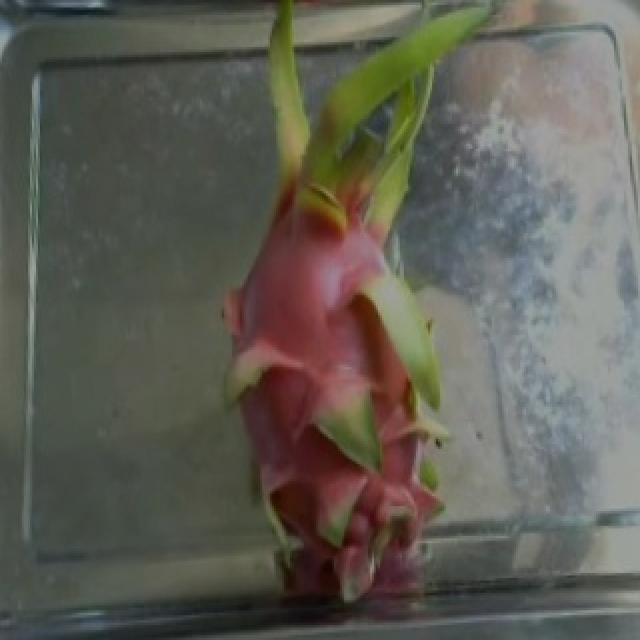fruit: (190, 196, 534, 618)
